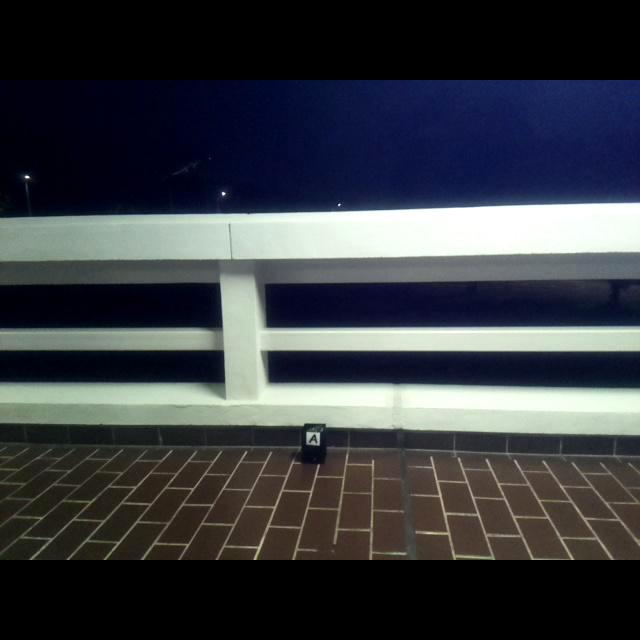A: (307, 435, 317, 444)
